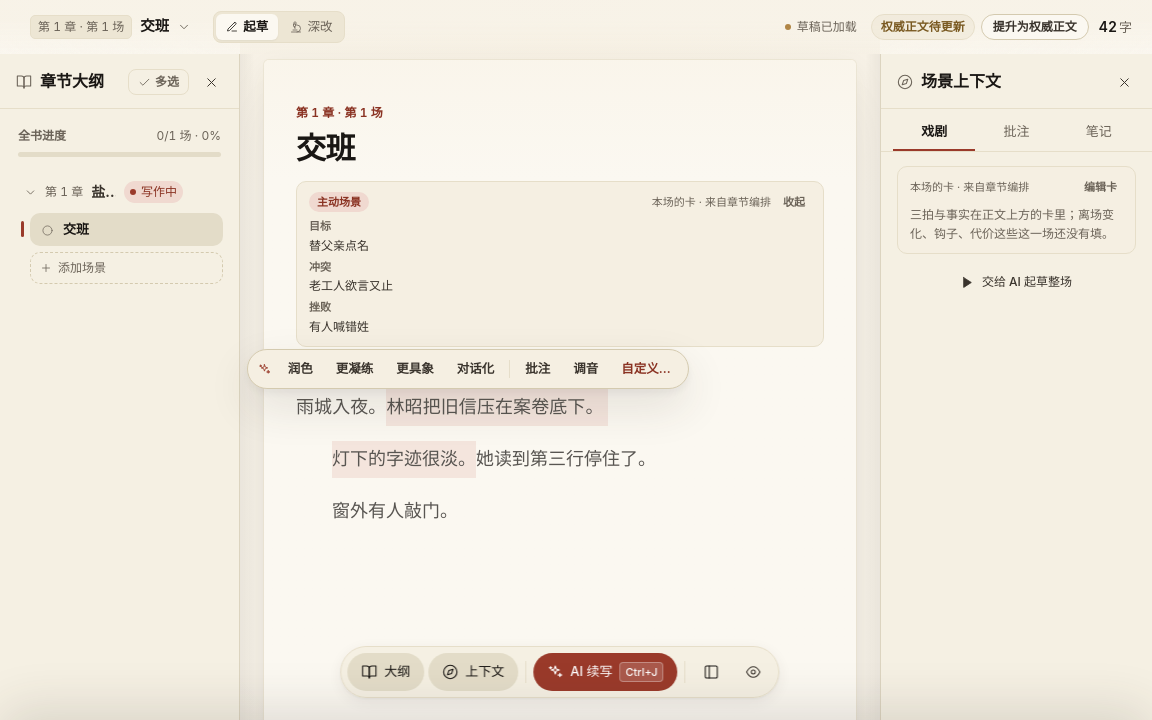
it: 写作台 · 跨段改写按段换回（#20b） › 改写之后又在起始段前半截、结束段后半截写了字：还原时这些字留着，选中的字按原来的段落回来
Expected: the field with class "wr-editor" shows "林昭", [296,397,656,522]
Click the button "润色". click: x=300, y=369
box: [277,354,324,384]
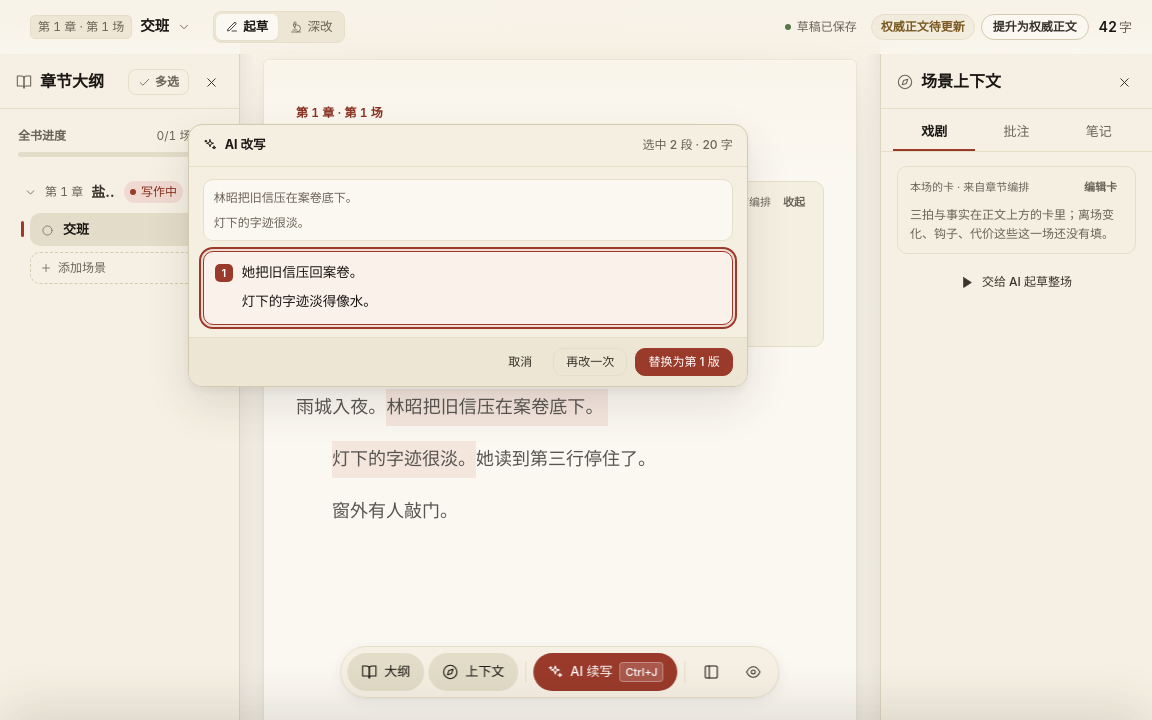
Expected: the button "替换为第 1 版" is shown
Click the button "替换为第 1 版". click: x=684, y=362
box: [635,348,733,376]
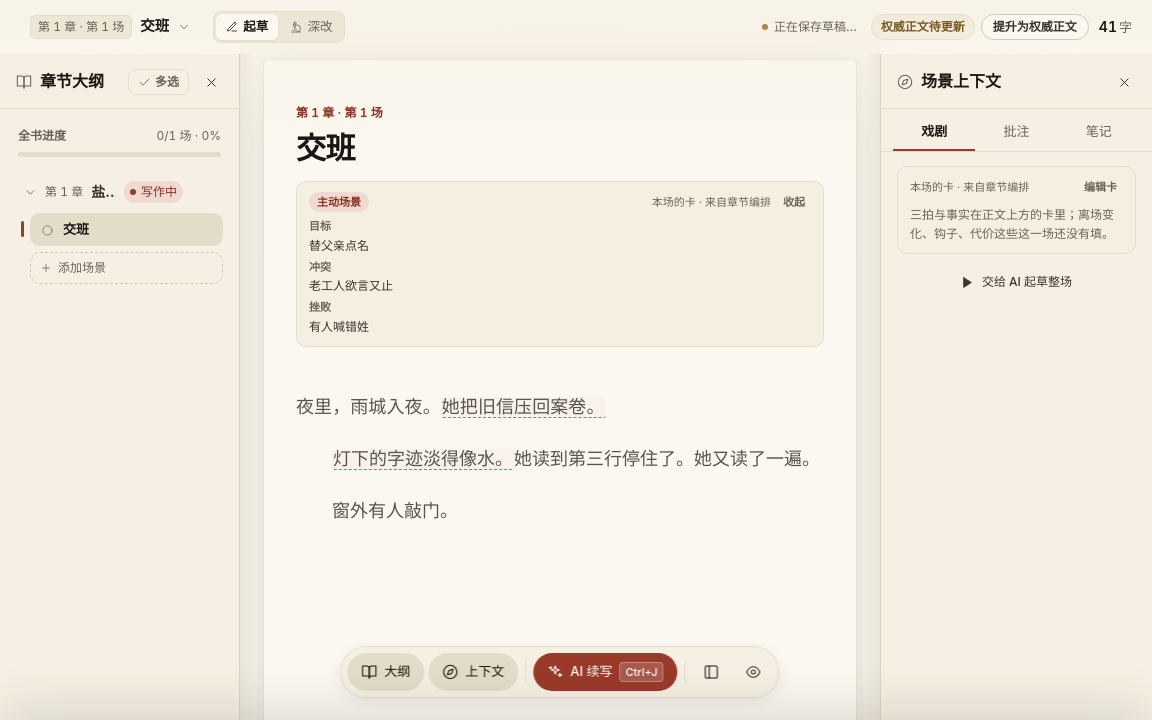
Click the text box with class "wr-rev" showing "她把旧信压回案卷。". click: x=523, y=408
box: [441,397,606,418]
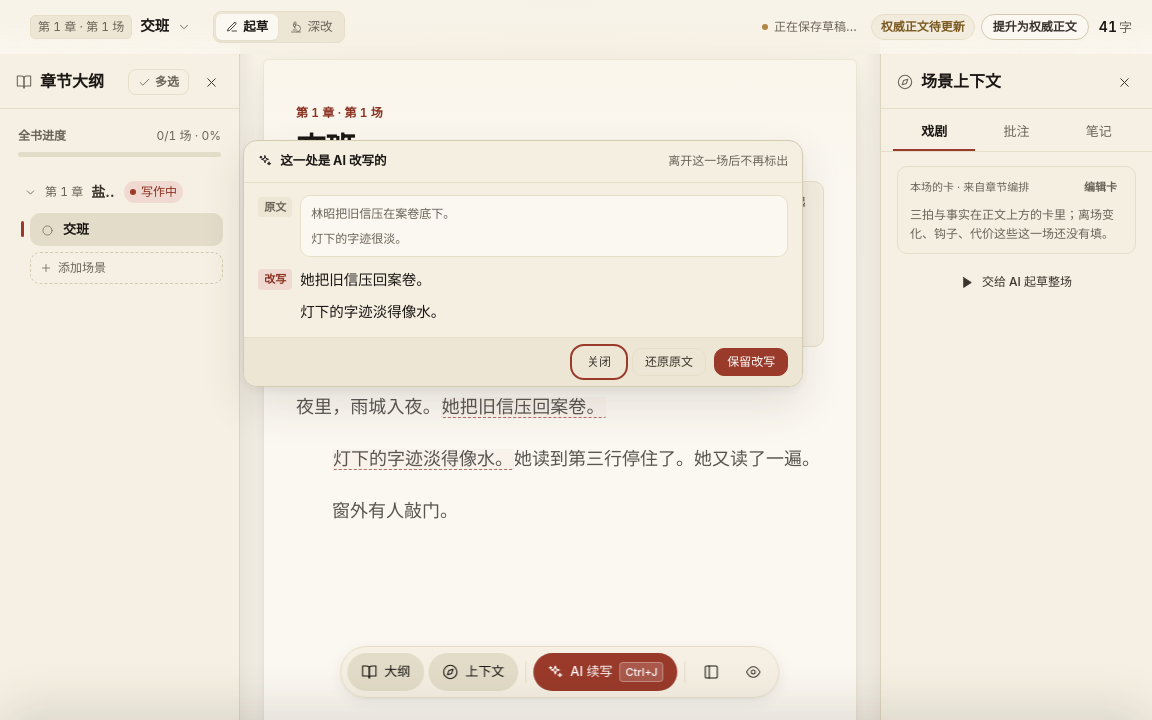
Expected: the dialog named "AI 改写的这一处" is shown, [243,140,803,387]
Click the button "还原原文". click: x=669, y=362
box: [632,348,706,376]
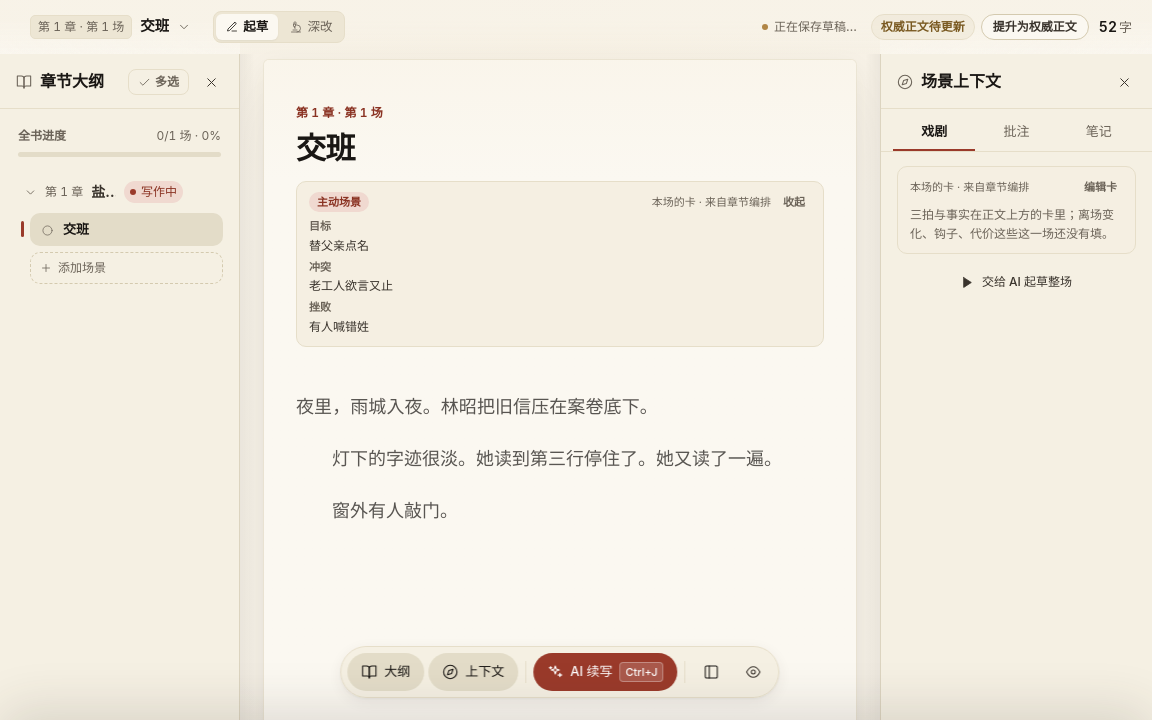
Expected: the text box with class "wr-rev" is gone
